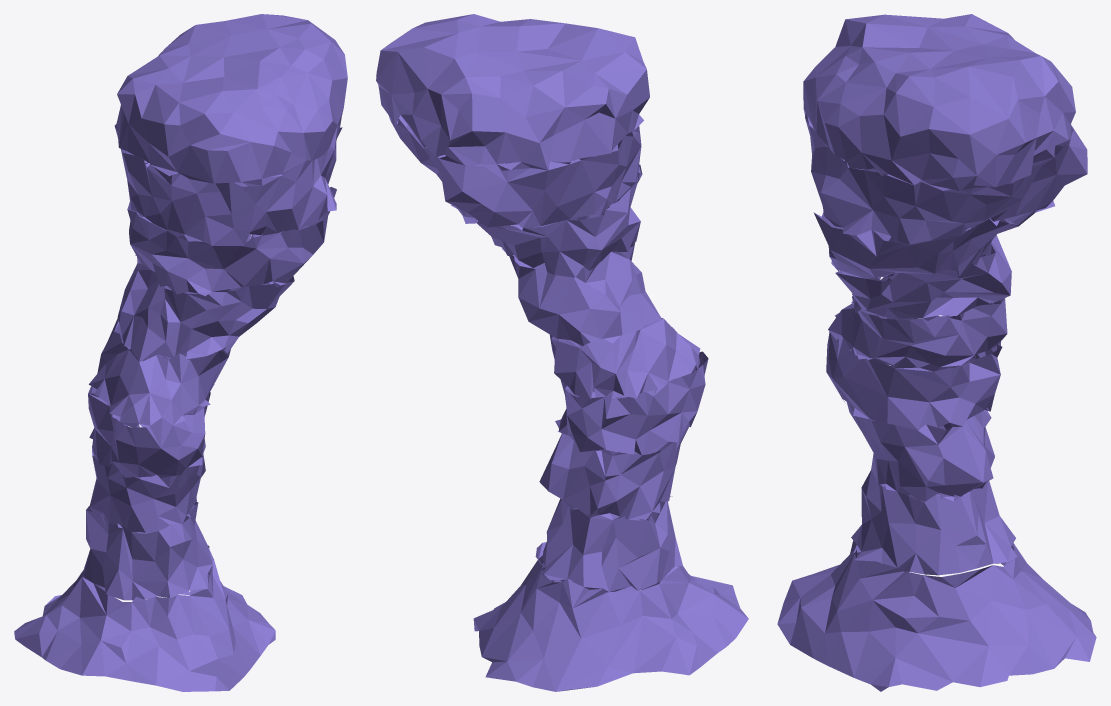
Rendered from pillar_whole.fbx.
3 renders of one model, left to right at view 1: azimuth 30°, elevation 25°; view 2: azimuth 150°, elevation 25°; view 3: azimuth 270°, elevation 25°, orthographic. The views are drawn at different scales.
Visible parts, largest first — view 1: PILLAR.006; view 2: PILLAR.006; view 3: PILLAR.006.
Part boxes in pixels (box(x1,y1,x2,y2)): PILLAR.006: box(14, 14, 347, 691); PILLAR.006: box(376, 14, 748, 691); PILLAR.006: box(777, 14, 1096, 691).
Bounding box in the file's own units: 15.98 × 28.02 × 12.6.
